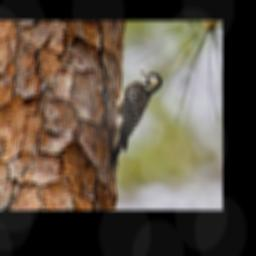Woodpecker: (102, 70, 162, 174)
